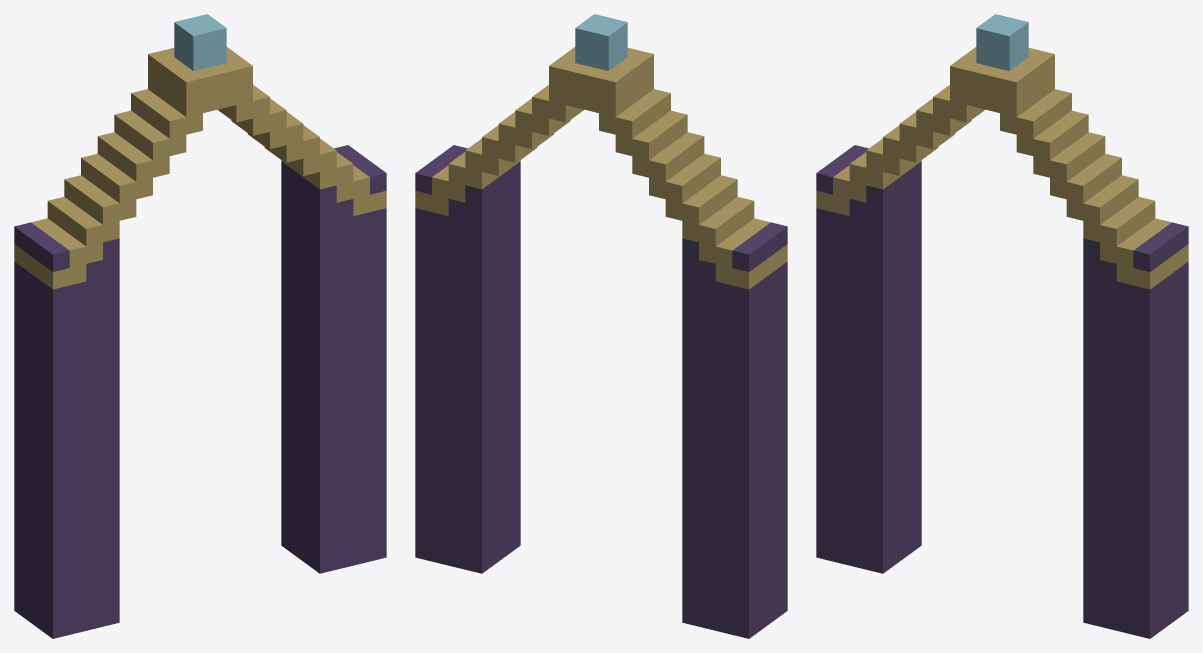
File: gate.glb
3 views of the same model, side by side, from view 1: azimuth 30°, elevation 25°; view 2: azimuth 150°, elevation 25°; view 3: azimuth 330°, elevation 25° (orthographic).
Visible parts, largest first — view 1: Shell; view 2: Shell; view 3: Shell.
Part boxes in pixels (x1,y1,x2,y2): Shell: (14, 14, 386, 638); Shell: (415, 14, 787, 638); Shell: (816, 14, 1188, 638).
Size of the model in its own units: 2.5 by 4 by 0.5.
